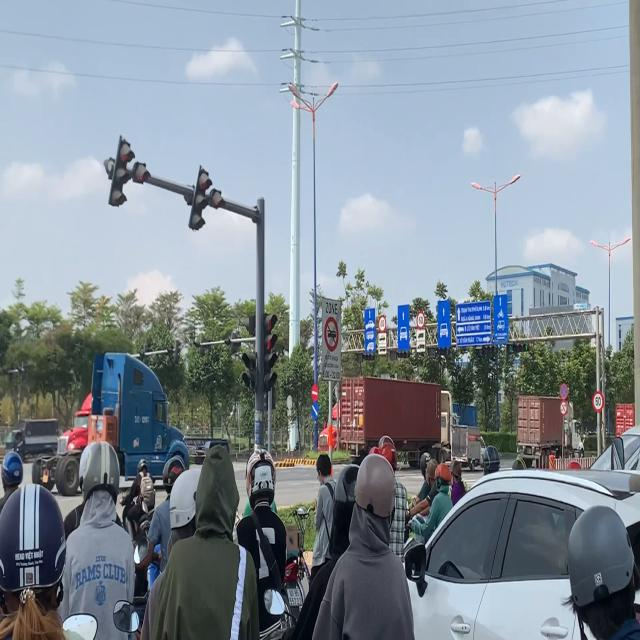Cam con lai: (324, 316, 338, 352), (560, 398, 568, 416)
Cam dung va do: (559, 382, 568, 400)
Cam nguoc chieu: (311, 383, 319, 402)
Hieu lenh: (312, 402, 319, 420)
Toc do toi da: (592, 390, 604, 412), (416, 309, 425, 329), (378, 314, 386, 333)
